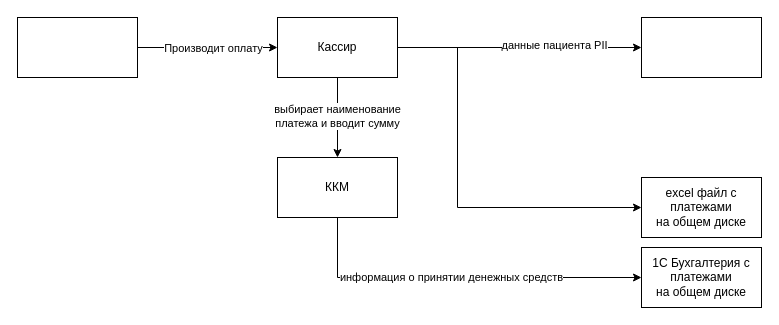
This 779x325 diagram has some shape labels left out. Each missing label, with the box of its shape:
журнал приема excel file на общем диске: (640, 16, 762, 78)
Пациент: (16, 16, 138, 78)
